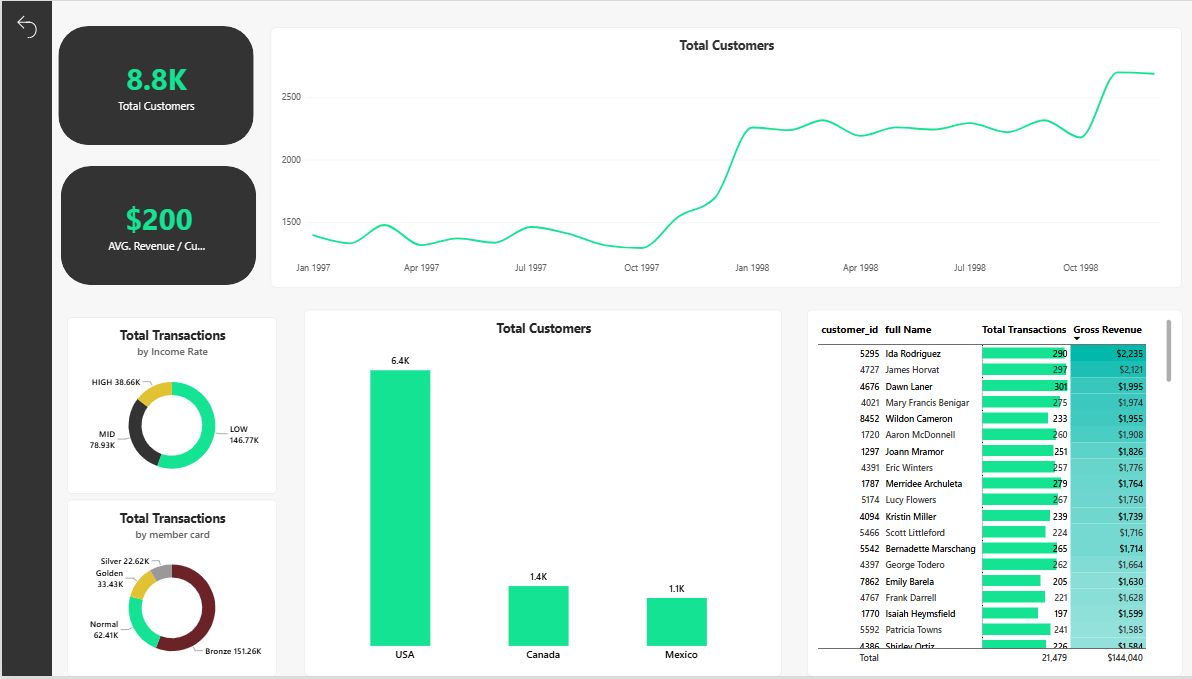

Layout of this report page (visuals, bound fields, positions):
{"tool":"powerbi","page":{"name":"Customer details","canvas":[1920,1080],"ordinal":2},"visuals":[{"type":"shape","box":[0,0,80,1080.4],"z":0},{"type":"tableEx","fields":{"Values":["customers.customer_id","customers.full Name","measure data.Tota Transactions","measure data.Gross Revenue"]},"box":[1287.2,494.4,600.4,586.1],"z":1000},{"type":"shape","box":[90.2,41,312.8,190.6],"z":2000},{"type":"cardVisual","fields":{"Data":["measure data.Total Customers"]},"box":[153.2,41,187,190.6],"z":3000},{"type":"lineChart","title":"Total Customers ","fields":{"Category":["calender.Year","calender.Start of Month","calender.Start of Week"],"Y":["measure data.Total Customers"]},"box":[429.7,41.3,1458,417.1],"z":4000},{"type":"shape","box":[94.5,263.8,312.8,190.6],"z":5000},{"type":"cardVisual","fields":{"Data":["measure data.AVG Revenue per Customer"]},"box":[157.4,263.8,187,190.6],"z":6000},{"type":"donutChart","title":"Total Transactions","fields":{"Category":["customers.Income Rate"],"Y":["measure data.Tota Transactions"]},"box":[104.3,505.2,336.2,282.2],"z":7000},{"type":"donutChart","title":"Total Transactions","fields":{"Category":["customers.member_card"],"Y":["measure data.Tota Transactions"]},"box":[104.3,798.2,336.2,282.2],"z":8000},{"type":"clusteredColumnChart","title":"Total Customers ","fields":{"Category":["customers.country/region"],"Y":["measure data.Total Customers"]},"box":[483.6,494.4,764,586.1],"z":9000},{"type":"actionButton","box":[0,0,80.4,83.9],"z":10000}]}

Visuals, with their boxes on the page's 1920x1080 design canvas (x1, y1, x2, y2). These are canvas units, not pixel positions in the 1192x679 screenshot, which may show the page scaled, cropped or inside an application window:
shape: 0:0:80:1080
tableEx - customers.customer_id x customers.full Name: 1287:494:1888:1080
shape: 90:41:403:232
cardVisual - measure data.Total Customers: 153:41:340:232
"Total Customers " lineChart: 430:41:1888:458
shape: 94:264:407:454
cardVisual - measure data.AVG Revenue per Customer: 157:264:344:454
"Total Transactions" donutChart: 104:505:440:787
"Total Transactions" donutChart: 104:798:440:1080
"Total Customers " clusteredColumnChart: 484:494:1248:1080
actionButton: 0:0:80:84
